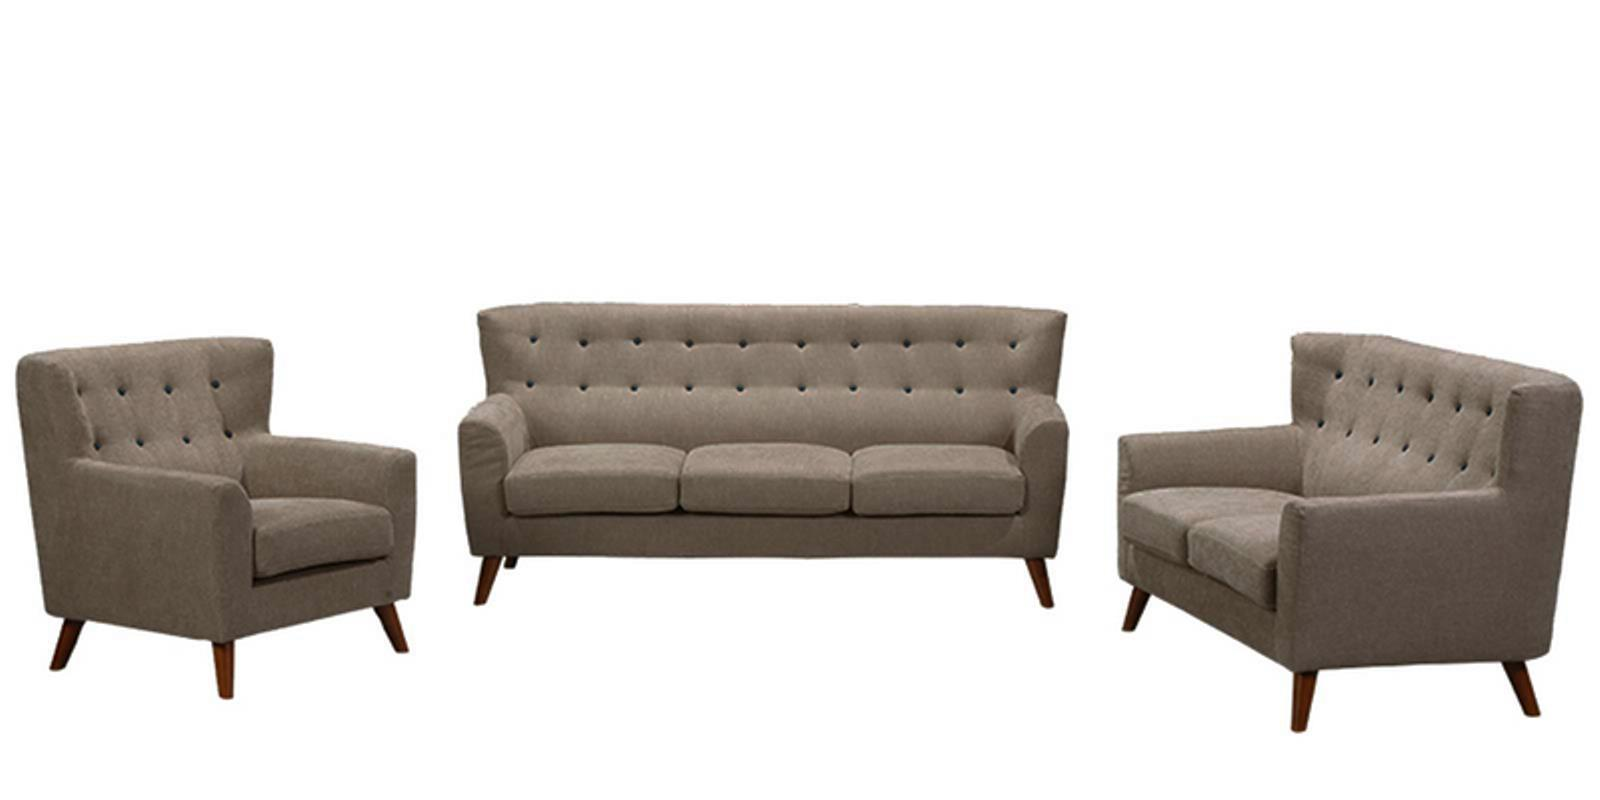Havana Three Seater Sofa in Ecru Colour by CasaCraft: (435, 289, 1095, 637), (1097, 308, 1592, 756), (2, 314, 440, 689)
